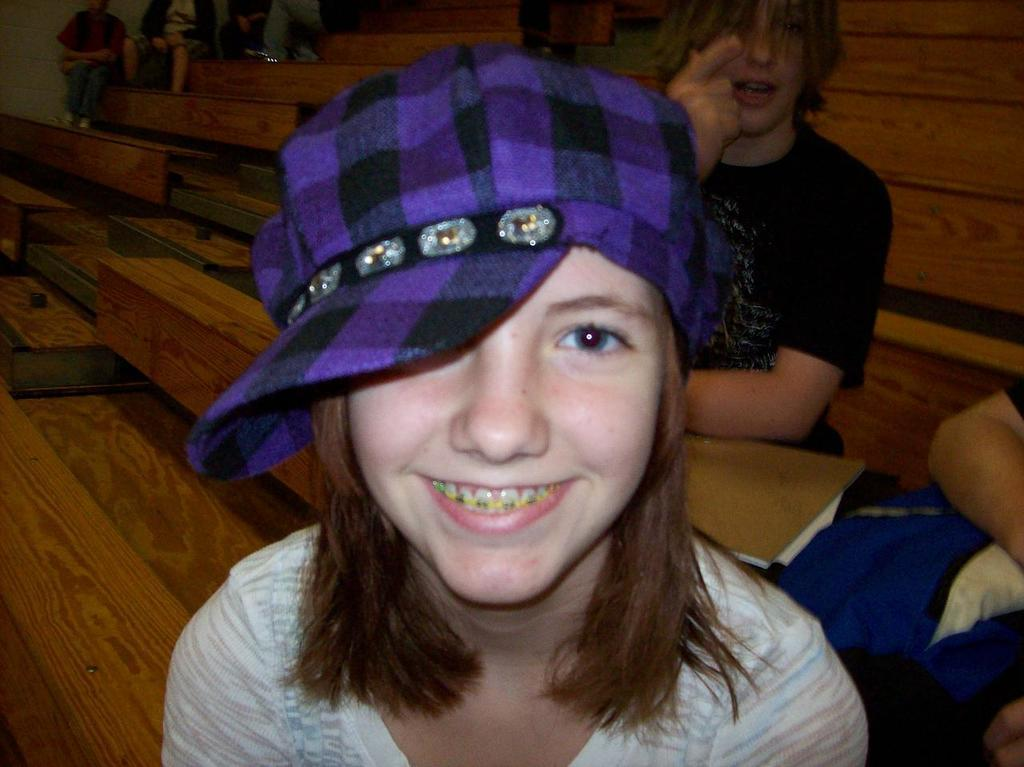Hat: (184, 36, 724, 488)
